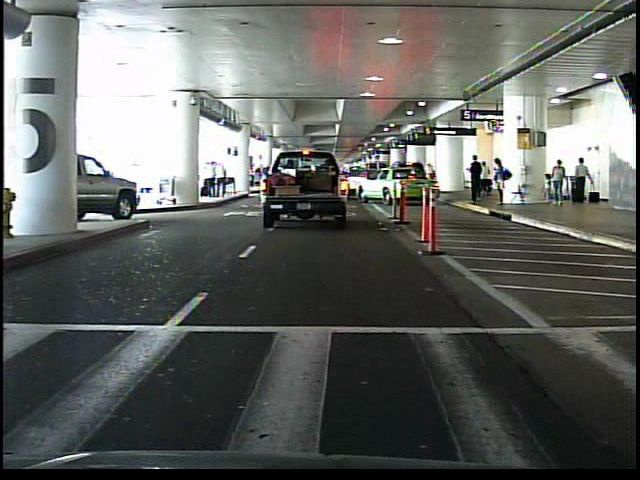person: (468, 154, 487, 206), (493, 157, 512, 208), (481, 157, 494, 200)
